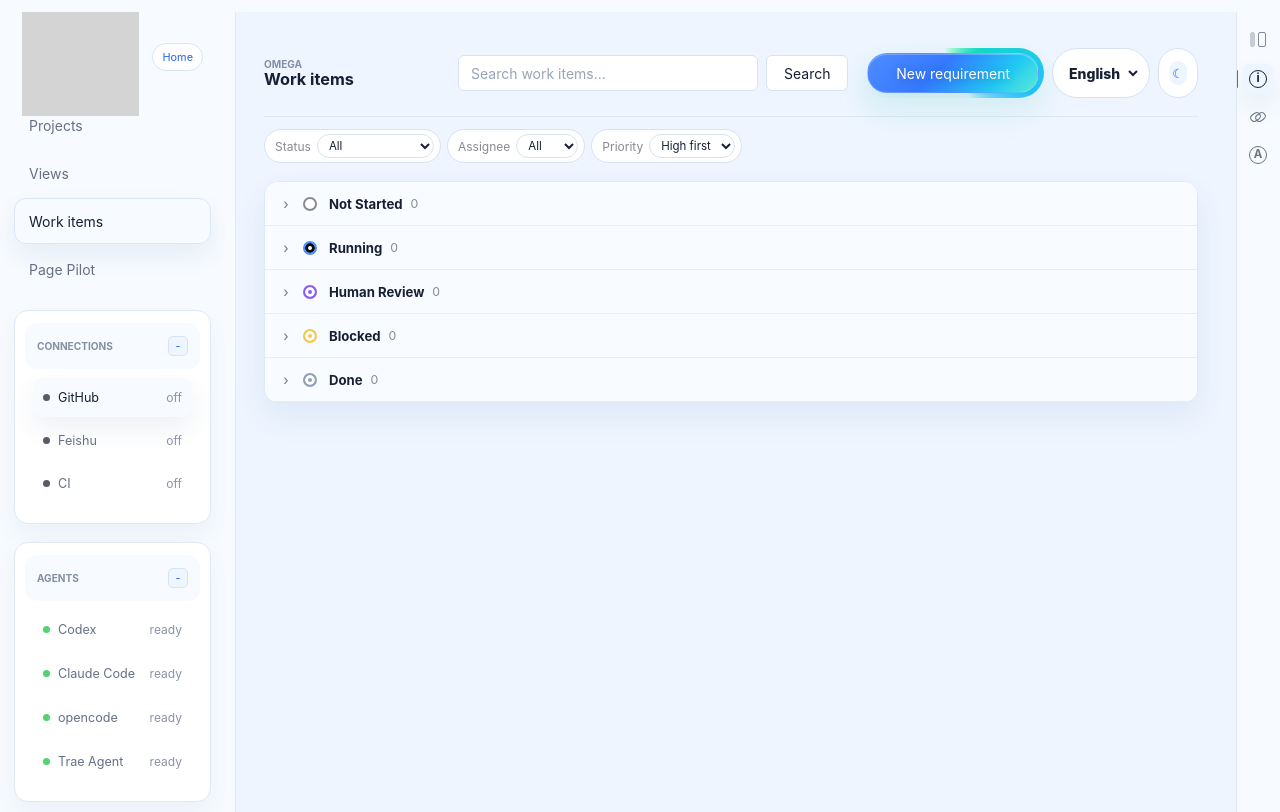
Test: App operator view › can run a workflow-backed SaaS Launch cycle from the operator pipeline list
Click the button "Views" at (112, 173), box 14,150 -> 211,196
(page scrolled)
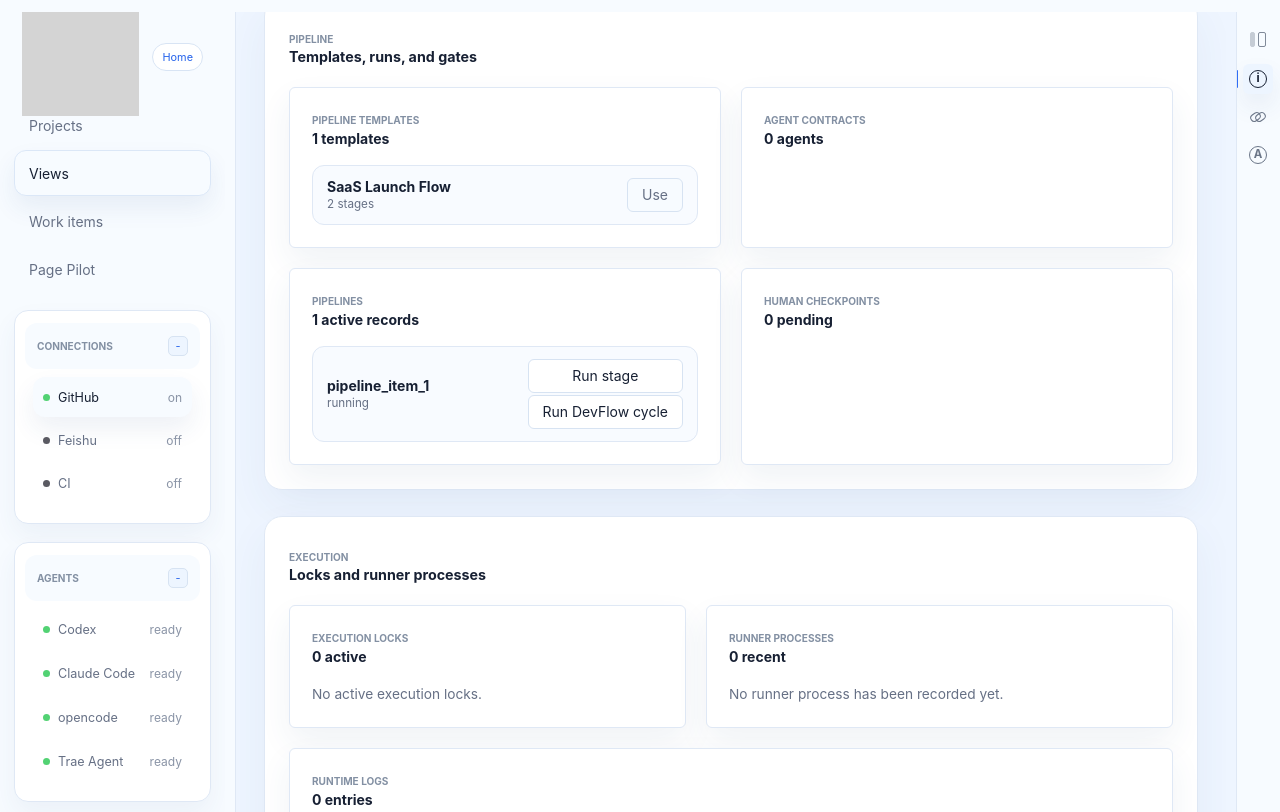
Click the button "Run DevFlow cycle" at (605, 412), box 528,395 -> 683,429
(page scrolled)
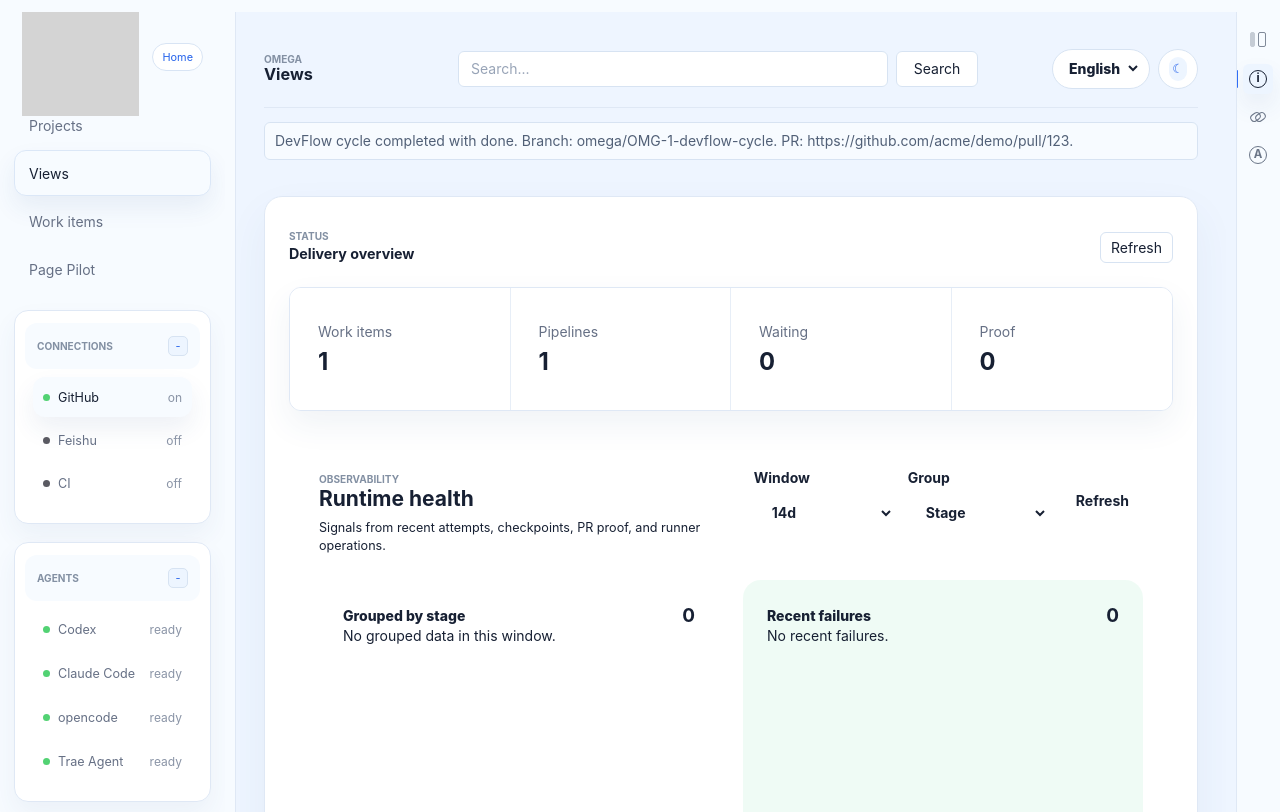
Result: the text "DevFlow cycle completed" is shown at 275,132 -> 1073,149
